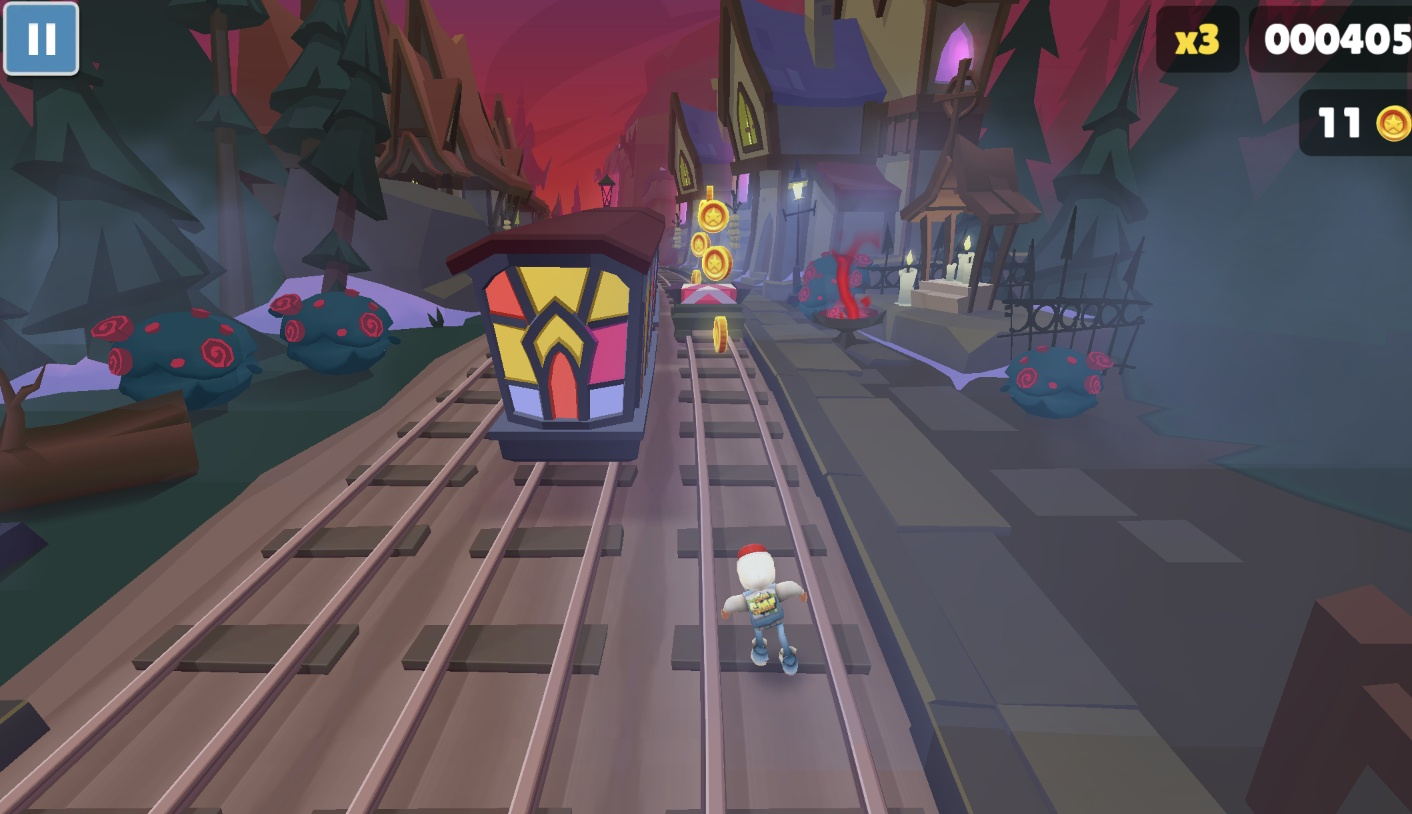ground_barrier: (680, 284, 752, 344)
train: (441, 207, 667, 474)
